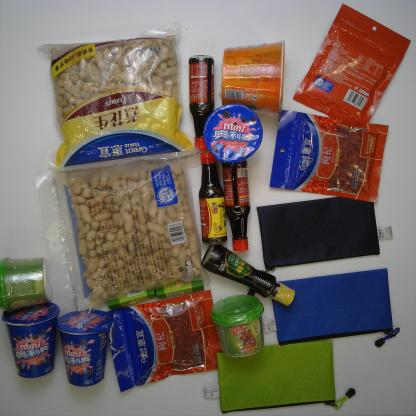Dessert: (1, 300, 61, 380), (56, 308, 114, 388), (202, 102, 264, 166)
Dried Food: (30, 161, 214, 320), (36, 20, 206, 178)
Dried Fruit: (291, 2, 412, 130), (103, 289, 224, 393), (267, 106, 390, 205)
Instant Drink: (209, 292, 266, 360), (1, 255, 53, 313)
Instant Noodles: (218, 38, 290, 118)
Seasoner: (201, 243, 296, 307), (220, 156, 253, 252), (187, 53, 217, 152), (198, 149, 228, 247)
Stationery: (244, 196, 384, 297), (214, 336, 356, 415), (269, 266, 401, 350), (106, 285, 158, 312), (154, 275, 206, 300)
